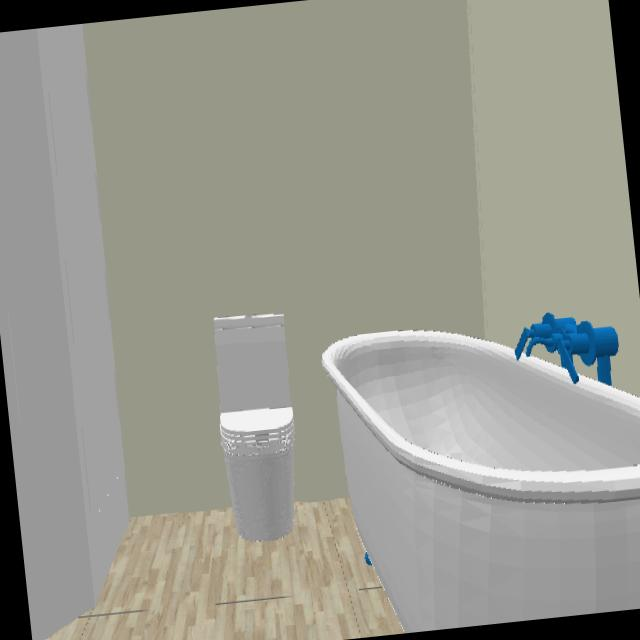bathtube: (320, 331, 640, 632)
shower: (0, 23, 130, 640)
toilet: (213, 312, 296, 543)
